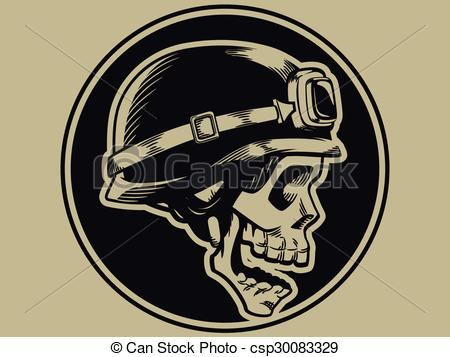with_helmet: (99, 40, 347, 214)
